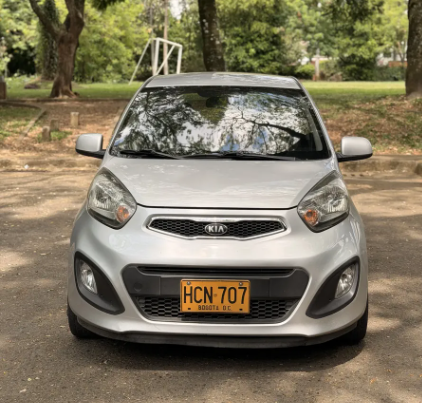placa: (181, 278, 250, 316)
